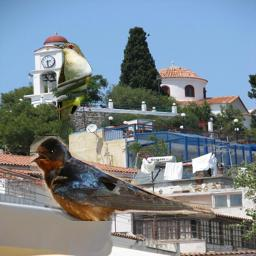Cuckoo: (53, 42, 93, 161)
Swallow: (30, 136, 216, 221)
